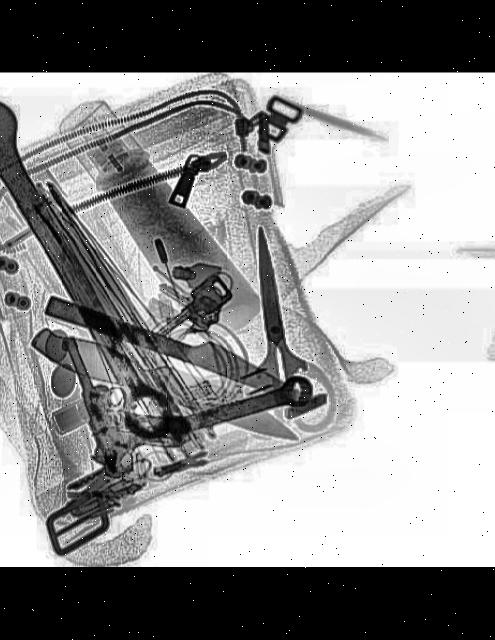Gun: (50, 317, 201, 484)
Knife: (25, 324, 310, 454), (41, 292, 310, 404), (234, 226, 309, 388)
Wrench: (0, 87, 194, 453), (84, 374, 319, 469)
